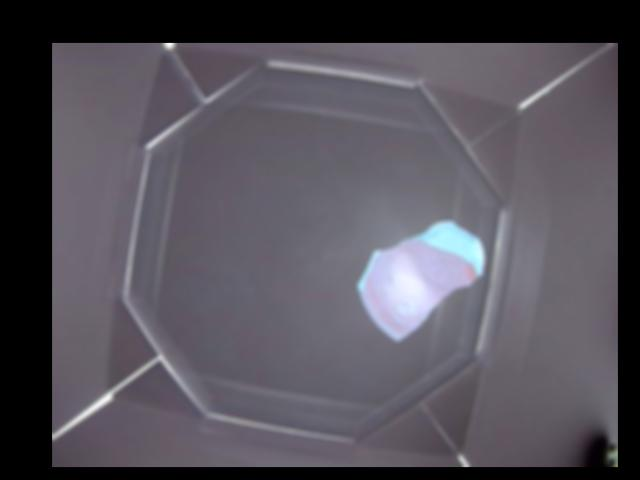China: (360, 217, 485, 342)
